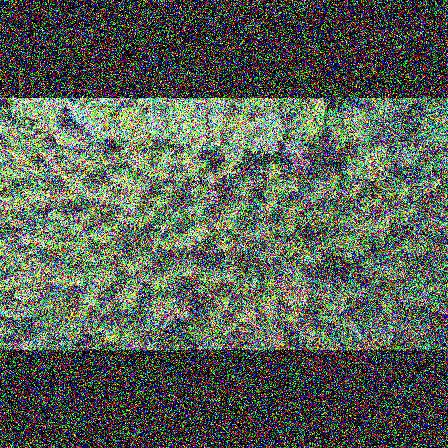Dead: (279, 137, 315, 177), (385, 149, 416, 171), (199, 165, 221, 187), (377, 122, 402, 141), (158, 310, 179, 331), (202, 188, 224, 201)
